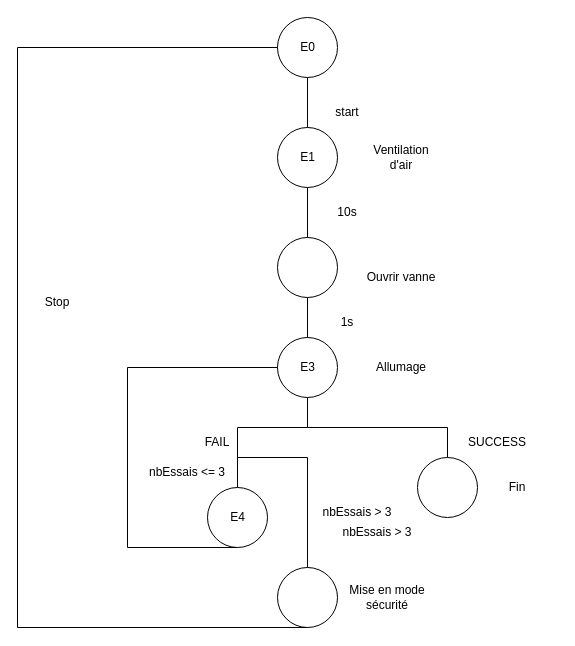
The diagram is 575 pixels wide and 646 high, and some of its shapes have lost their labels. Here are the shapes that lost their labels. From the top down, the centre of each, then its label:
(x=307, y=267): E2
(x=307, y=597): E5
